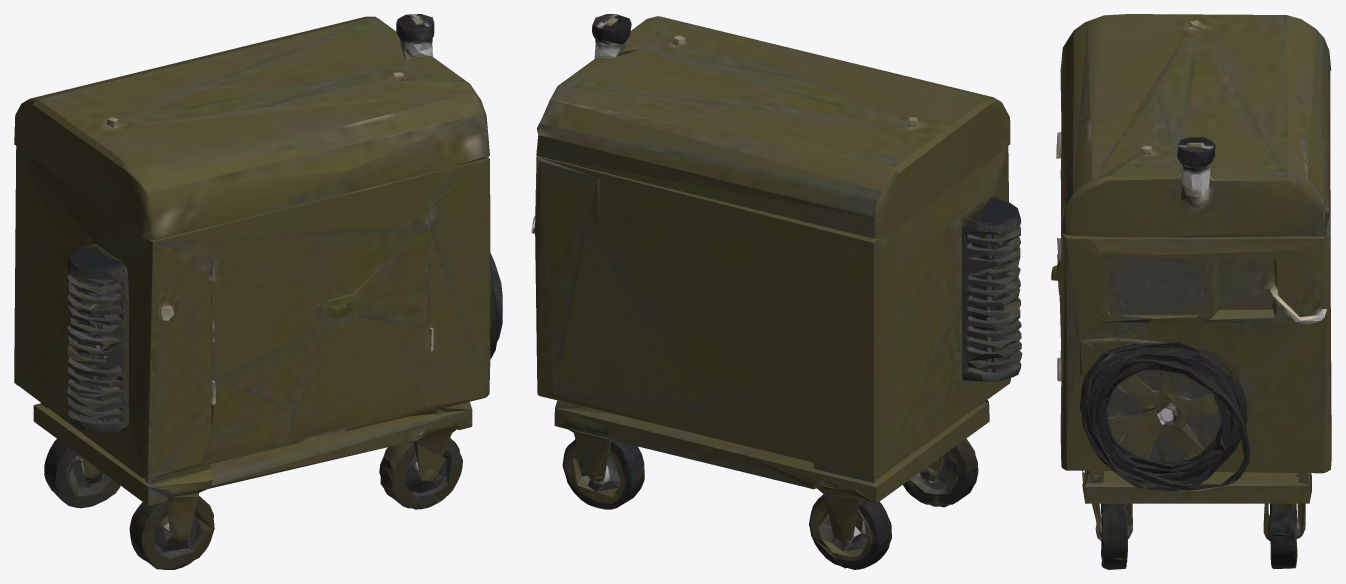
The model's file is deco_generateur.glb.
3 views of the same model, side by side, from view 1: azimuth 30°, elevation 25°; view 2: azimuth 150°, elevation 25°; view 3: azimuth 270°, elevation 25° (orthographic).
Size of the model in its own units: 1.86 by 1.9 by 1.1.
Materials: 1 (1 with a texture image).
